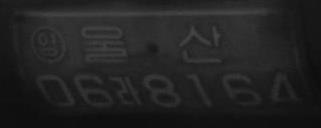0: (34, 71, 75, 108)
1: (183, 73, 214, 106)
4: (269, 70, 305, 109)
6: (221, 71, 263, 108), (76, 73, 114, 109)
8: (143, 72, 182, 109)
라: (114, 74, 143, 106)
영: (30, 24, 66, 64)
울산_D: (80, 24, 222, 65)
